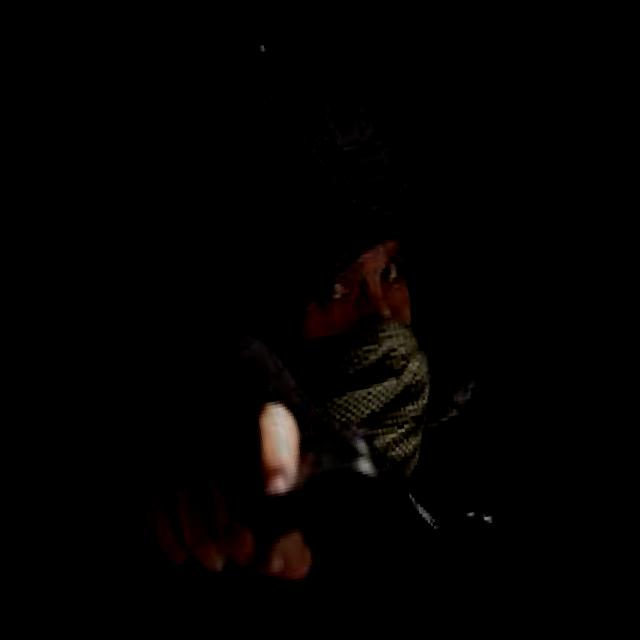handgun: (146, 398, 391, 566)
